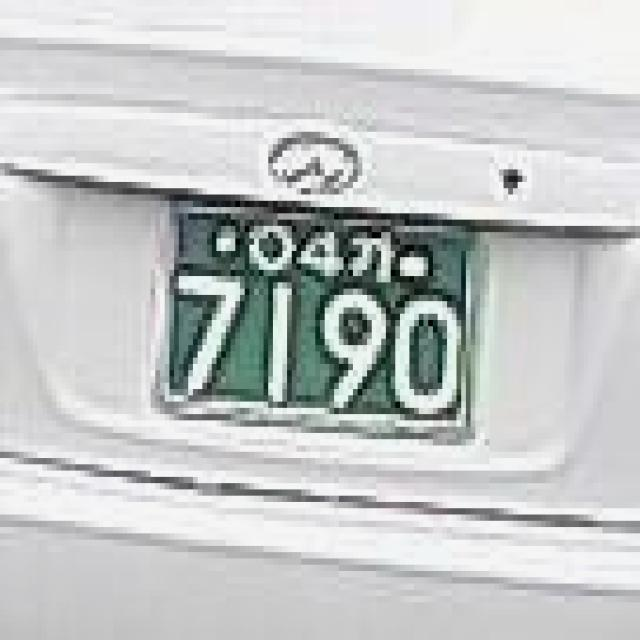illegal_plate: (147, 186, 490, 468)
